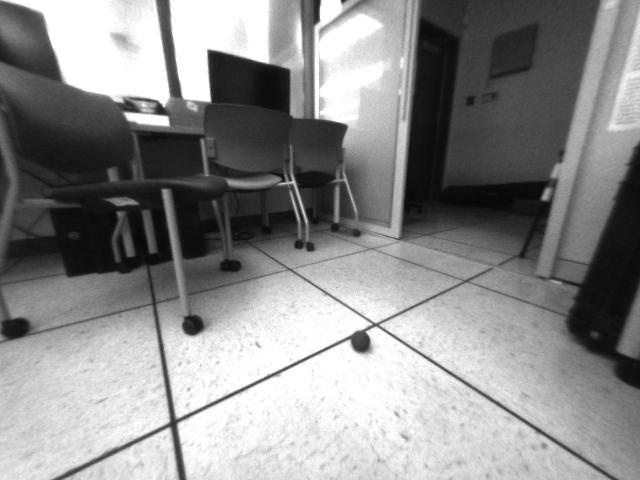dogtoy: (345, 326, 381, 357)
